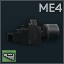AKM%5AK-74 ME4 buffer tube adapter: (0, 0, 64, 64)
